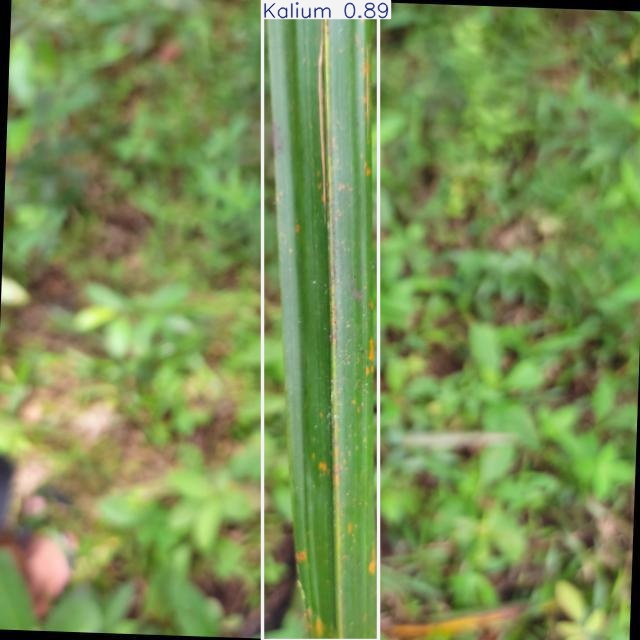Kalium: (263, 0, 379, 640)
